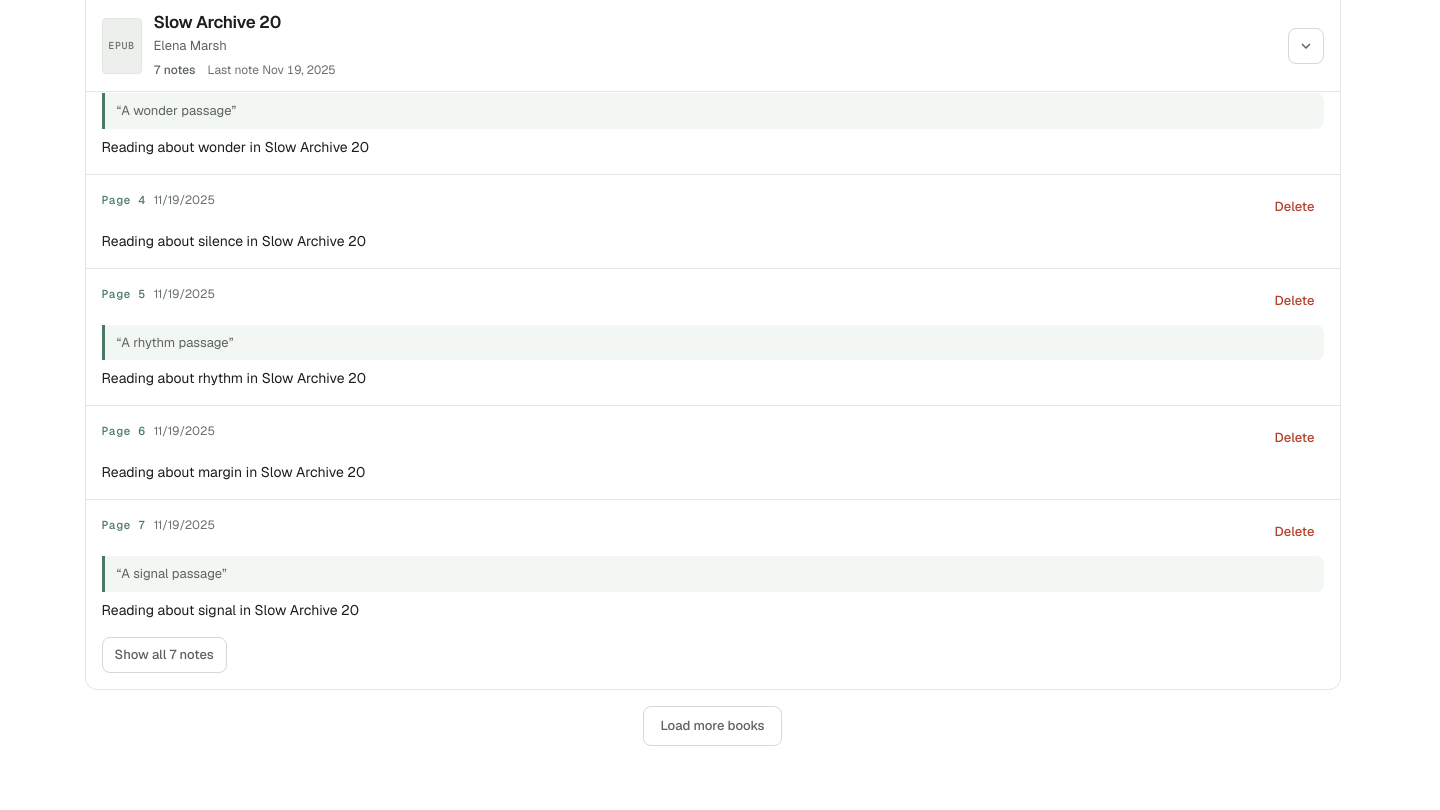
Test: NotesPage groups › loads the next page of books
(page scrolled)
What coordinates should you click on to do the following:
click the button "Load more books"
I would click on:
 (712, 726)
Its box is [643,706,782,746].
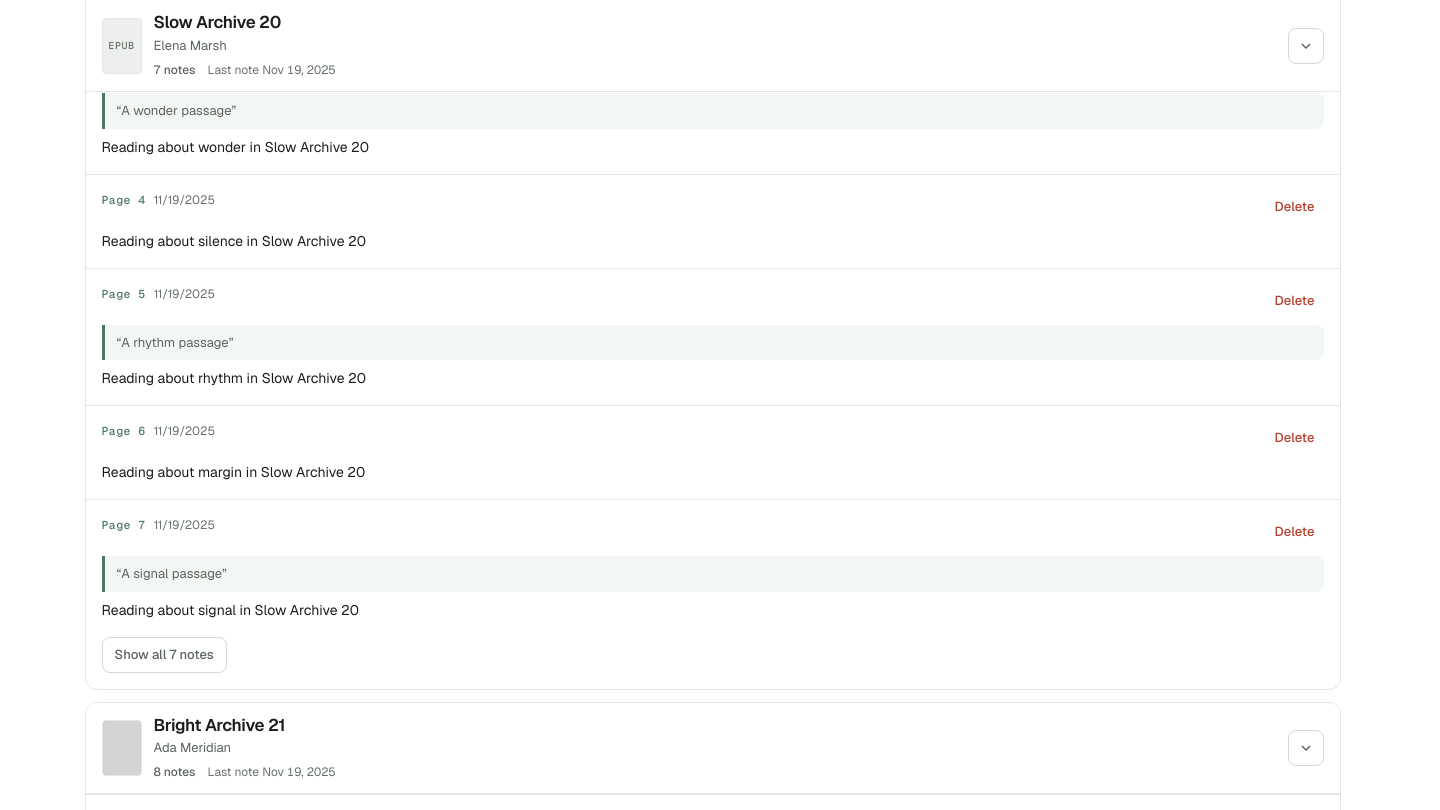
Expected: the button "Load more books" is gone
